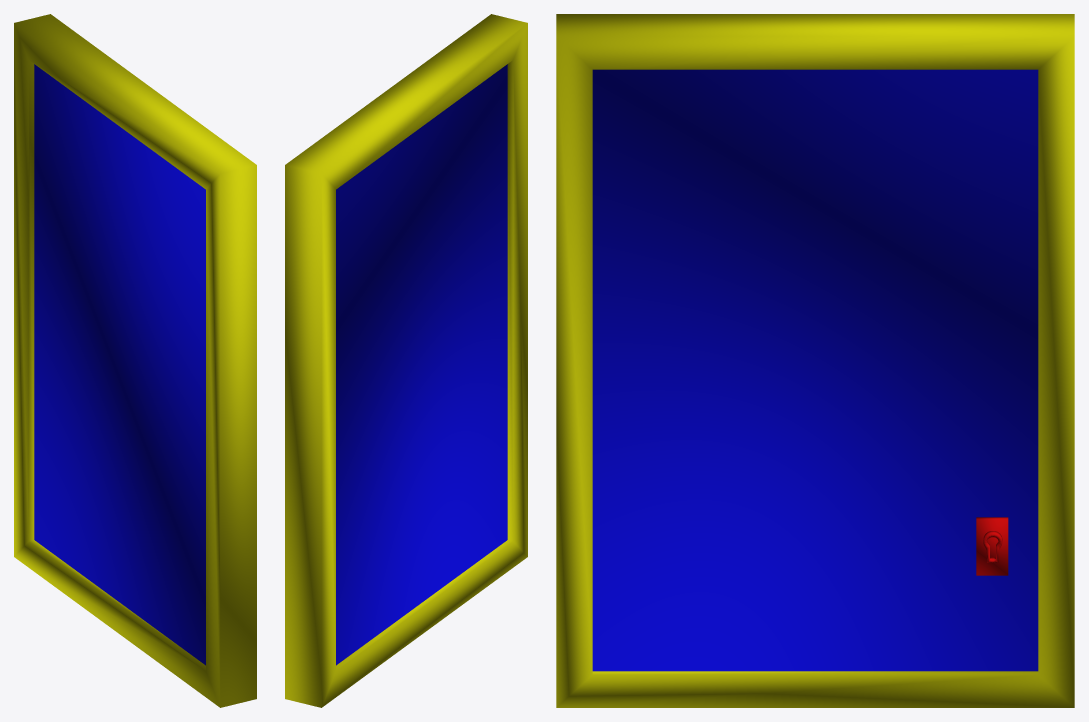
Rendered from Door2_Gizmo.FBX.
3 views of the same model, side by side, from view 1: azimuth 30°, elevation 25°; view 2: azimuth 150°, elevation 25°; view 3: azimuth 270°, elevation 25° (orthographic). The views are drawn at different scales.
Parts seen in each view (by area): view 1: Door2:DOOR2; view 2: Door2:DOOR2; view 3: Door2:DOOR2, Door2:serrure002.
Part boxes in pixels (bbox=[...]): Door2:DOOR2: bbox=[14, 14, 256, 707]; Door2:DOOR2: bbox=[285, 14, 527, 707]; Door2:DOOR2: bbox=[556, 14, 1074, 707]; Door2:serrure002: bbox=[976, 517, 1008, 575].
Bounding box in the file's own units: 9.32 × 110 × 76.76.
